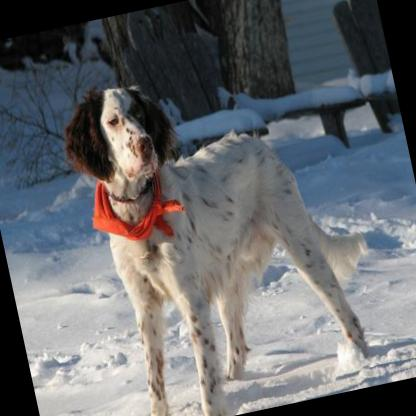English_setter: (48, 34, 397, 416)
